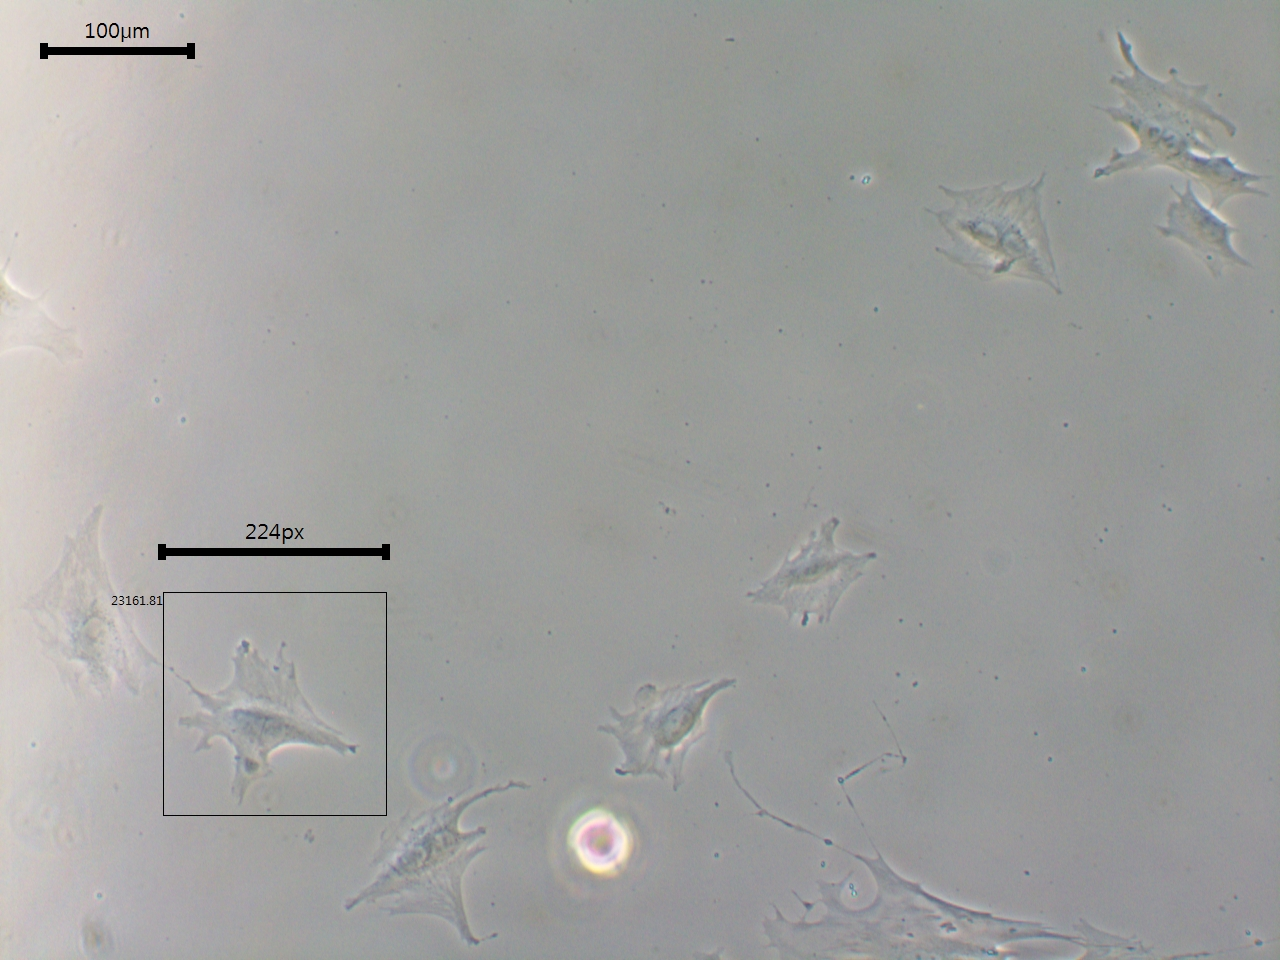dividing: (338, 775, 541, 953), (1083, 26, 1229, 187), (917, 167, 1070, 308)
medium-polygonal: (609, 673, 746, 794), (1145, 179, 1253, 287)
medium-spread: (734, 512, 898, 632)
